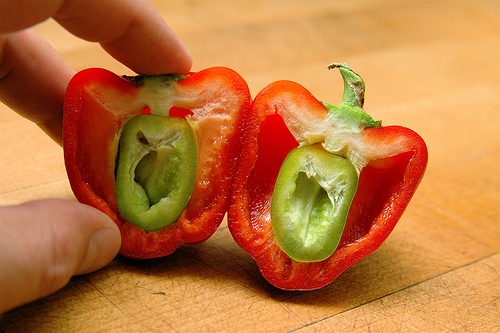capsicum: (62, 61, 427, 292)
